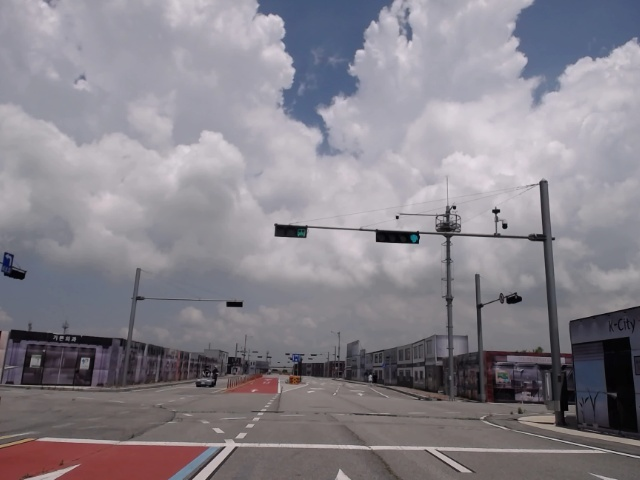straight_green_4: (375, 231, 423, 244)
